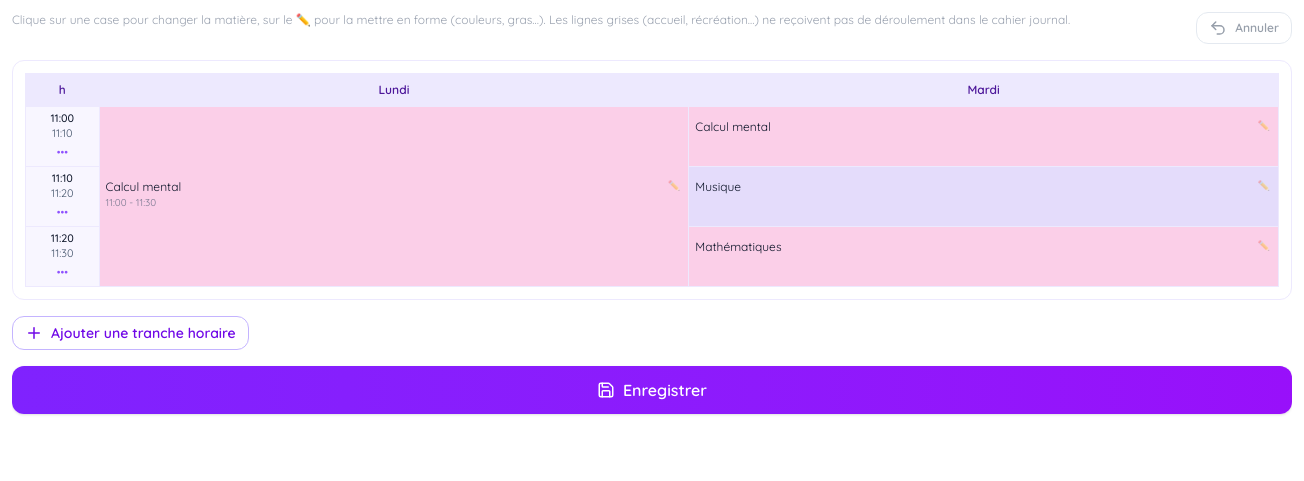
Test case: TimetableGrid : rendu de la grille fusionnée › propose en clair d’appliquer le style à toutes les cases de la matière
Click the button named "mise en forme lundi 11:00" at (674, 186), box [666,178,682,192]
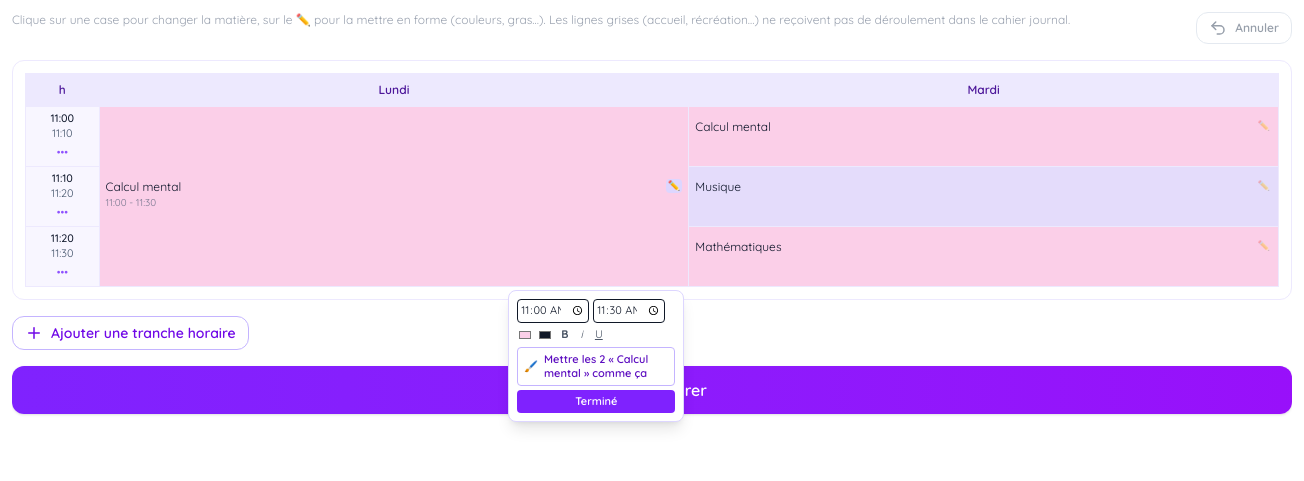
Now the button "🖌️ Mettre les 2 « Calcul mental » comme ça" is shown, box [517,346,675,386]
Type "#ff0000" into the colour field named "couleur du fond lundi 11:00" at (525, 334), box [517,326,533,342]
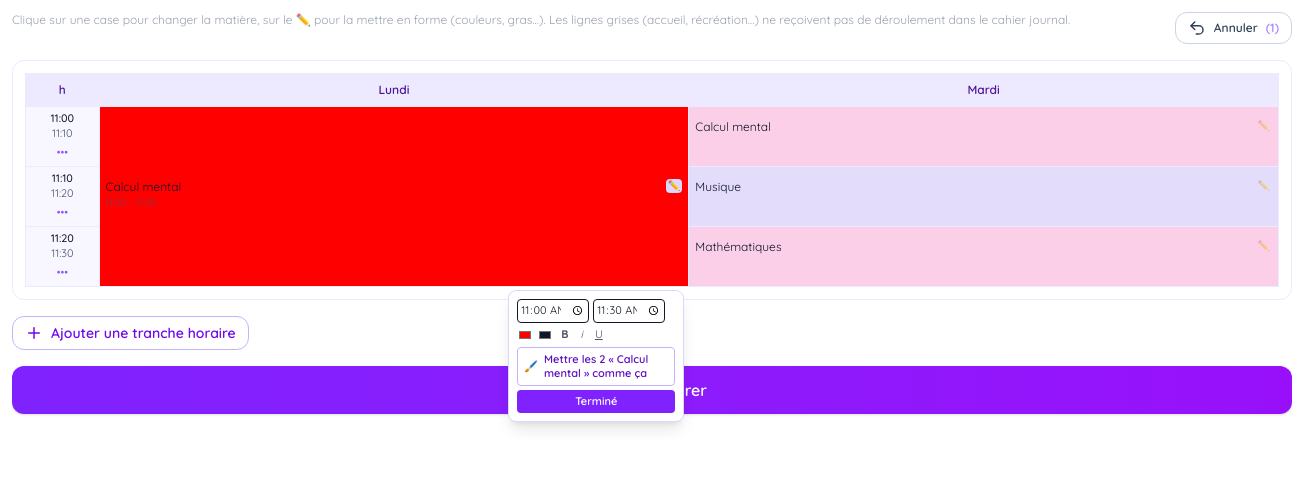
Click the button "🖌️ Mettre les 2 « Calcul mental » comme ça" at (596, 366), box [517,346,675,386]
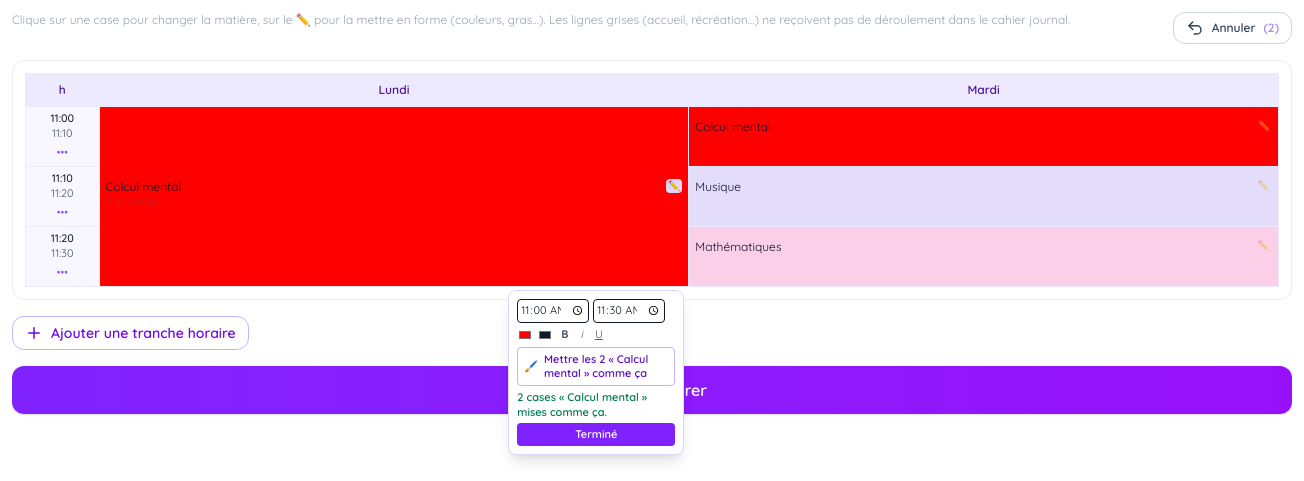
Now the message shows "2 cases « Calcul mental » mises comme ça", box [517,390,647,419]
